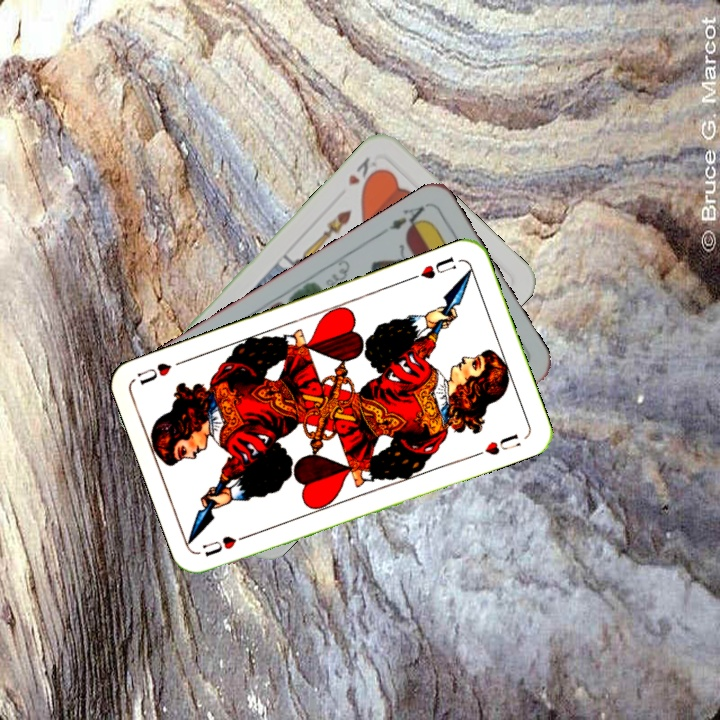EA: (376, 202, 430, 238)
HK: (343, 152, 383, 193)
HU: (198, 529, 254, 560), (406, 252, 459, 283)
